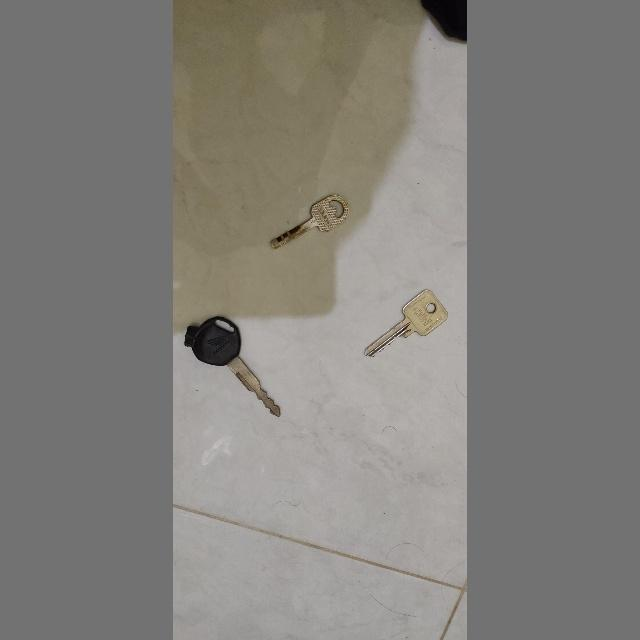Keys: (176, 305, 292, 423), (352, 276, 458, 372), (266, 185, 354, 262)
